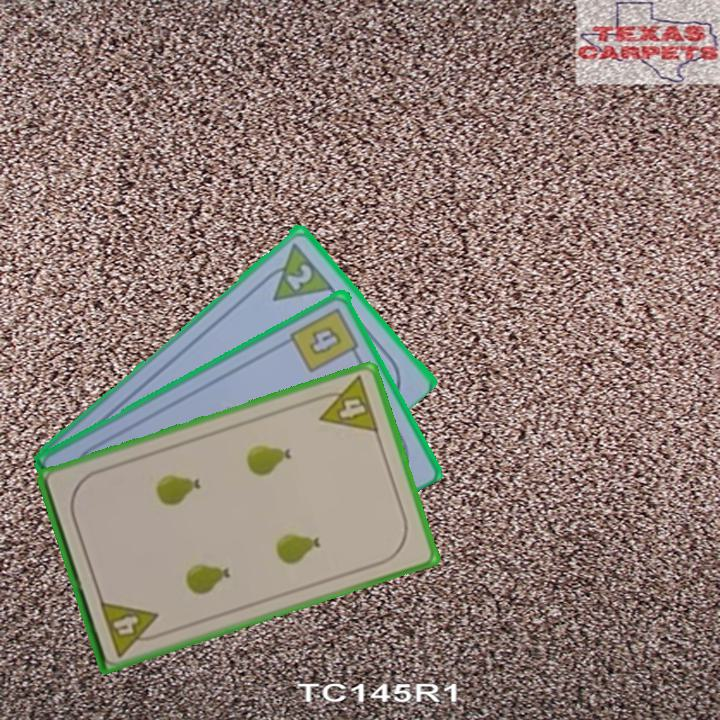2p: (256, 238, 335, 304)
4b: (287, 303, 363, 375)
4p: (310, 372, 382, 436), (96, 596, 166, 659)
